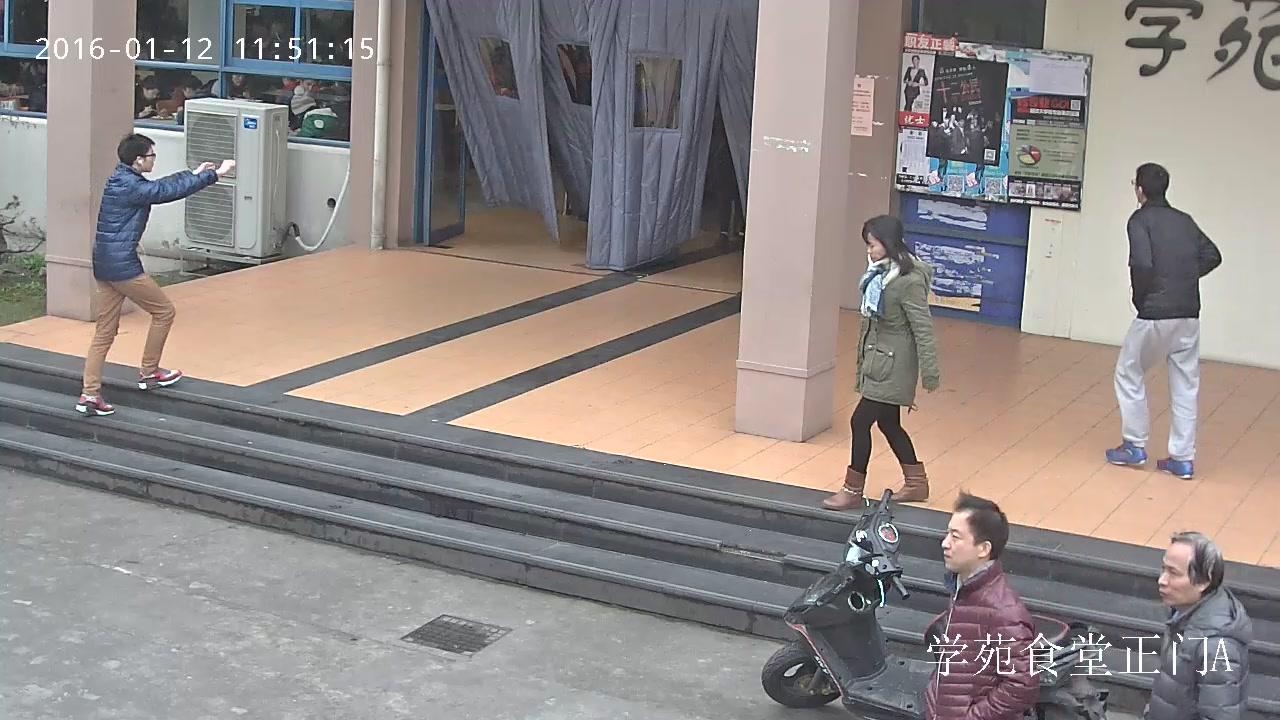person: (75, 133, 236, 416), (1102, 161, 1222, 480), (819, 215, 939, 512), (919, 490, 1041, 718), (1136, 530, 1253, 719), (288, 84, 344, 139), (903, 54, 930, 111), (133, 76, 165, 118), (212, 70, 253, 97)
